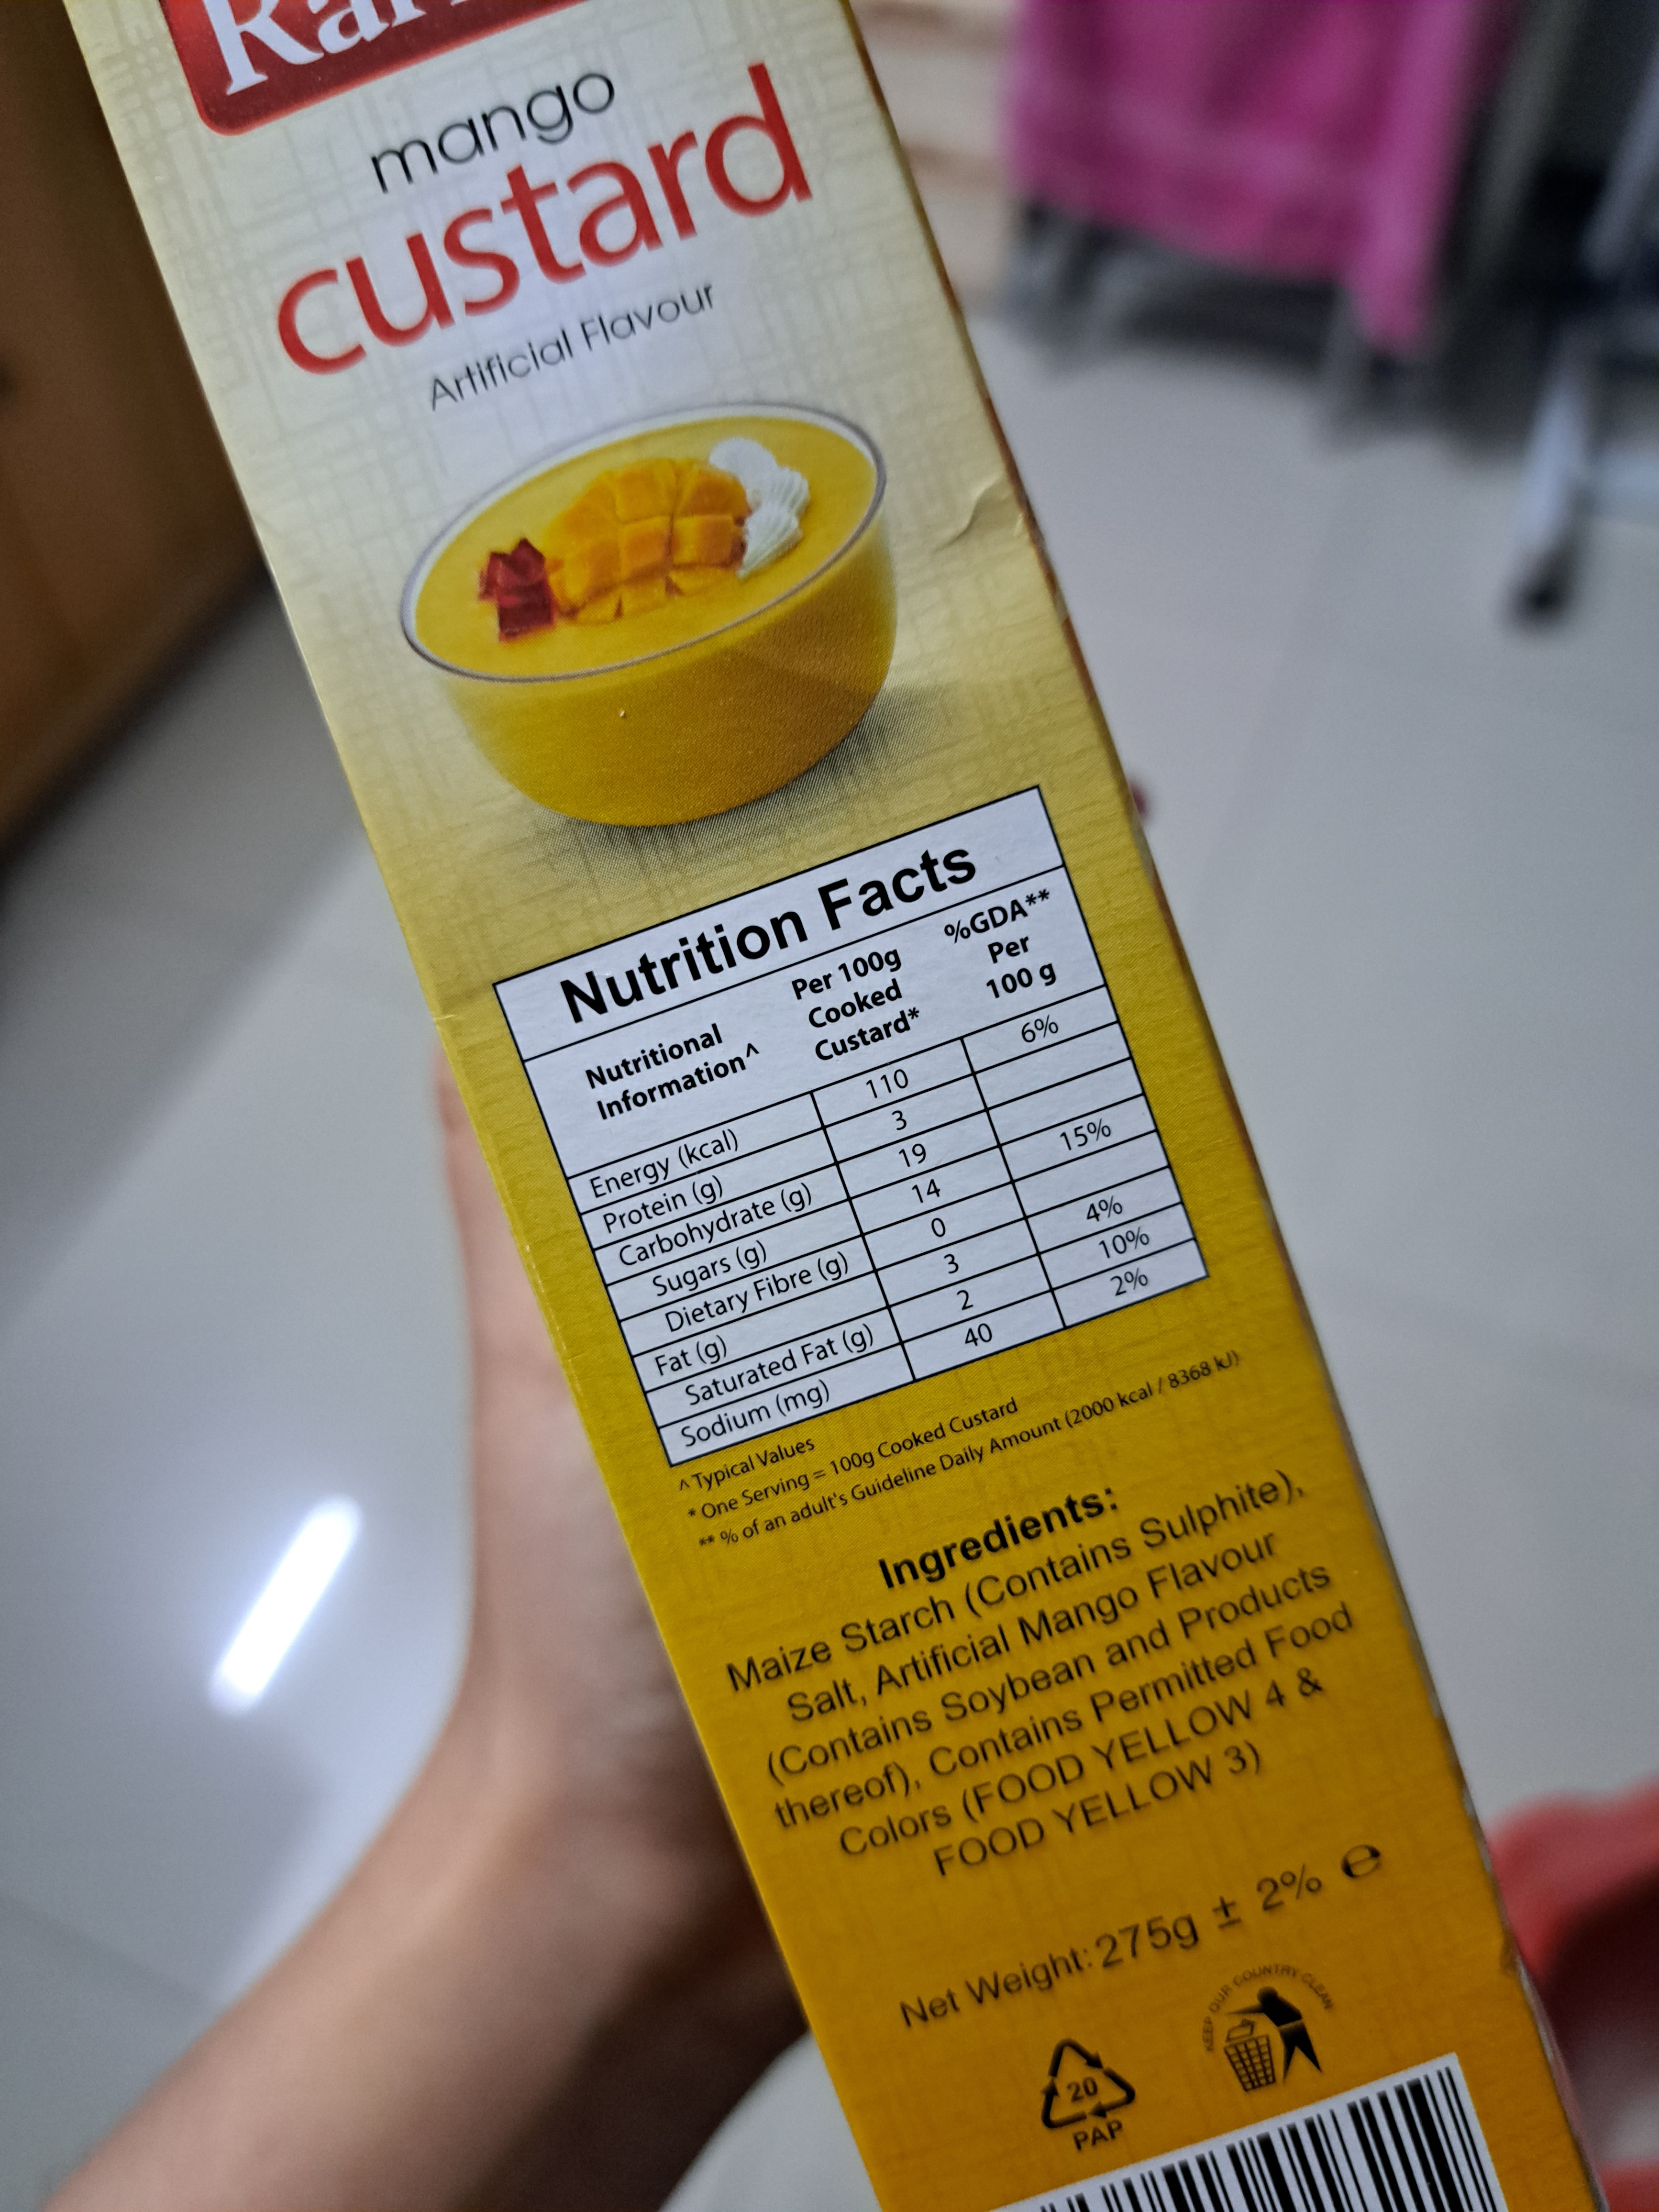table: (497, 786, 1216, 1467)
